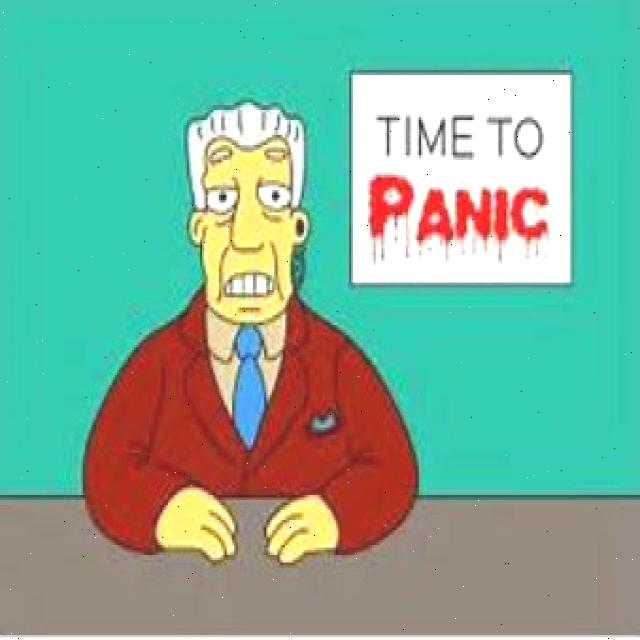Kent Brockman: (178, 94, 312, 326)
